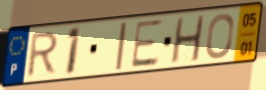1: (65, 25, 81, 77)
E: (128, 18, 164, 71)
H: (168, 13, 206, 65)
I: (113, 20, 129, 72)
O: (204, 11, 236, 61)
R: (24, 30, 61, 80)
